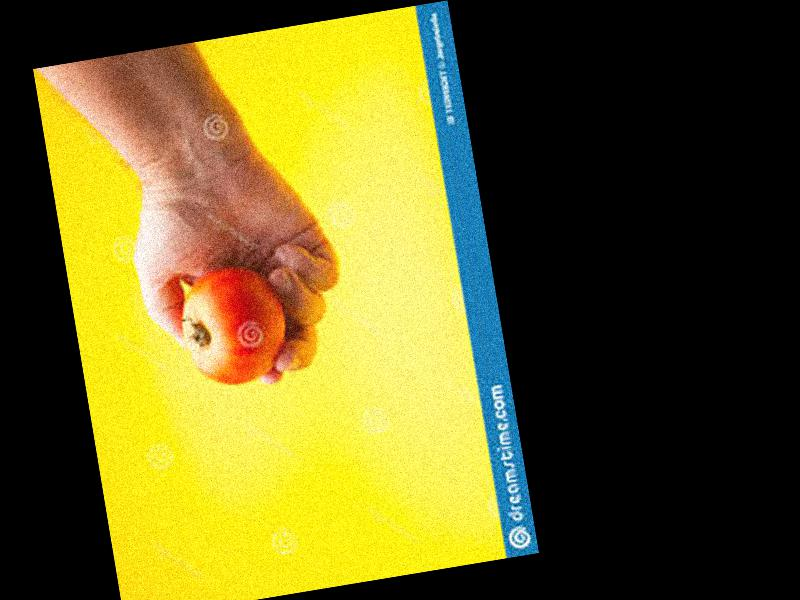Tomato: (174, 260, 293, 390)
